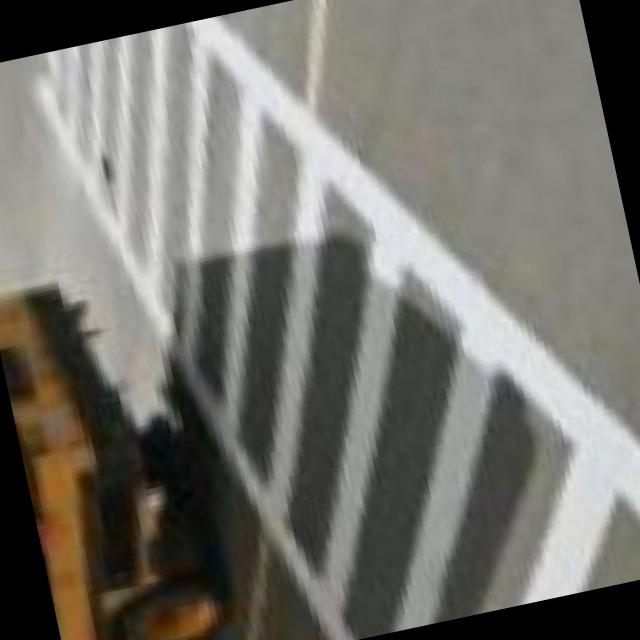zebra: (18, 13, 640, 640)
